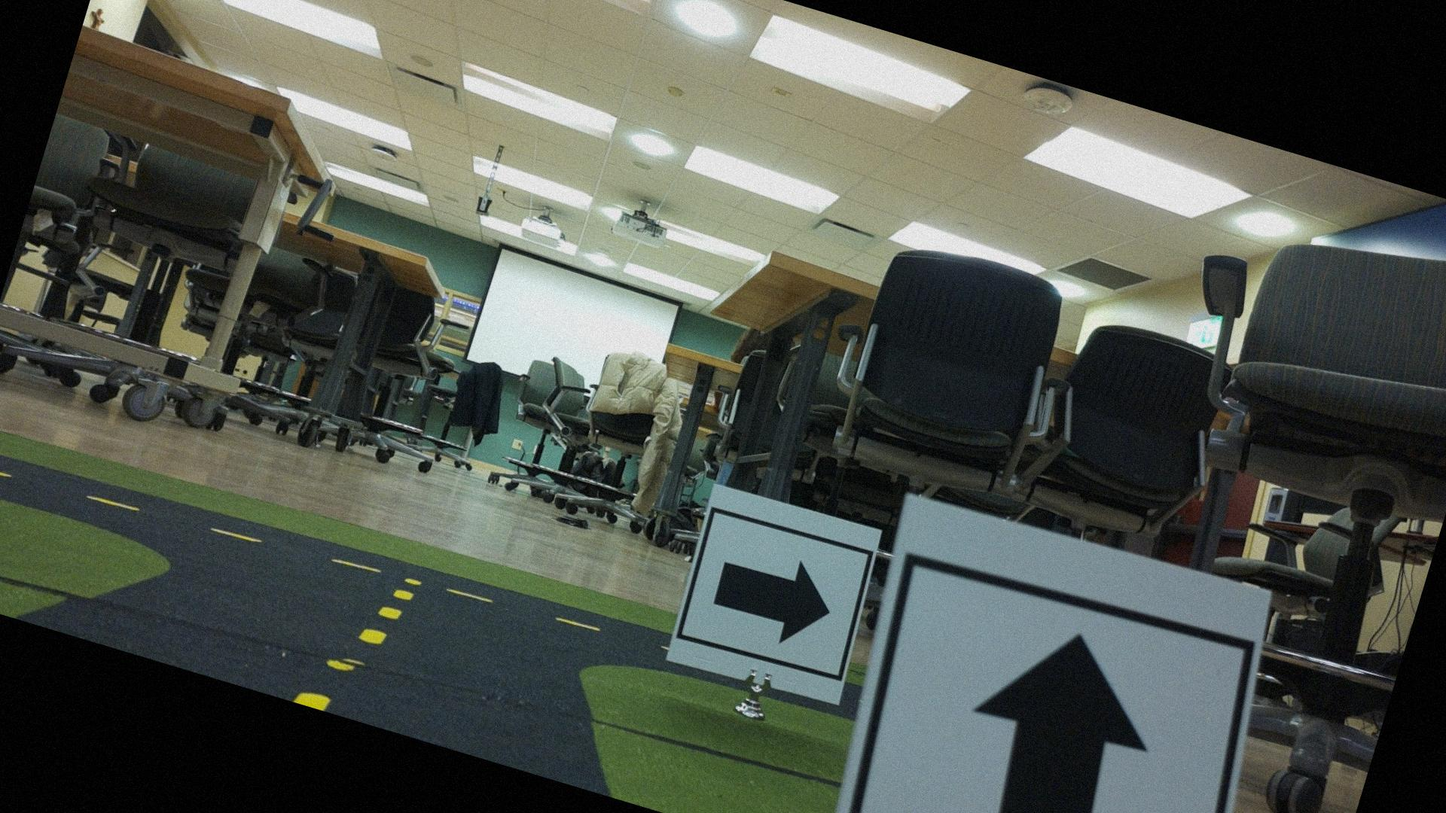gostraight: (828, 508, 1264, 812)
turnleft: (660, 486, 878, 708)
yellowline: (297, 567, 414, 723)
